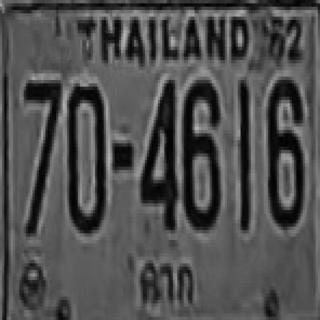N00: (67, 83, 104, 230)
N01: (236, 77, 249, 230), (236, 82, 249, 228)
N04: (138, 77, 175, 227)
N06: (266, 77, 303, 227), (182, 77, 218, 227)
N07: (23, 78, 59, 232), (23, 78, 59, 208), (23, 77, 59, 180)
P69: (130, 252, 207, 311)
